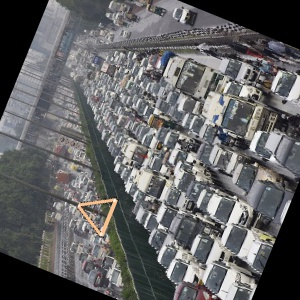triangle: (75, 195, 118, 238)
